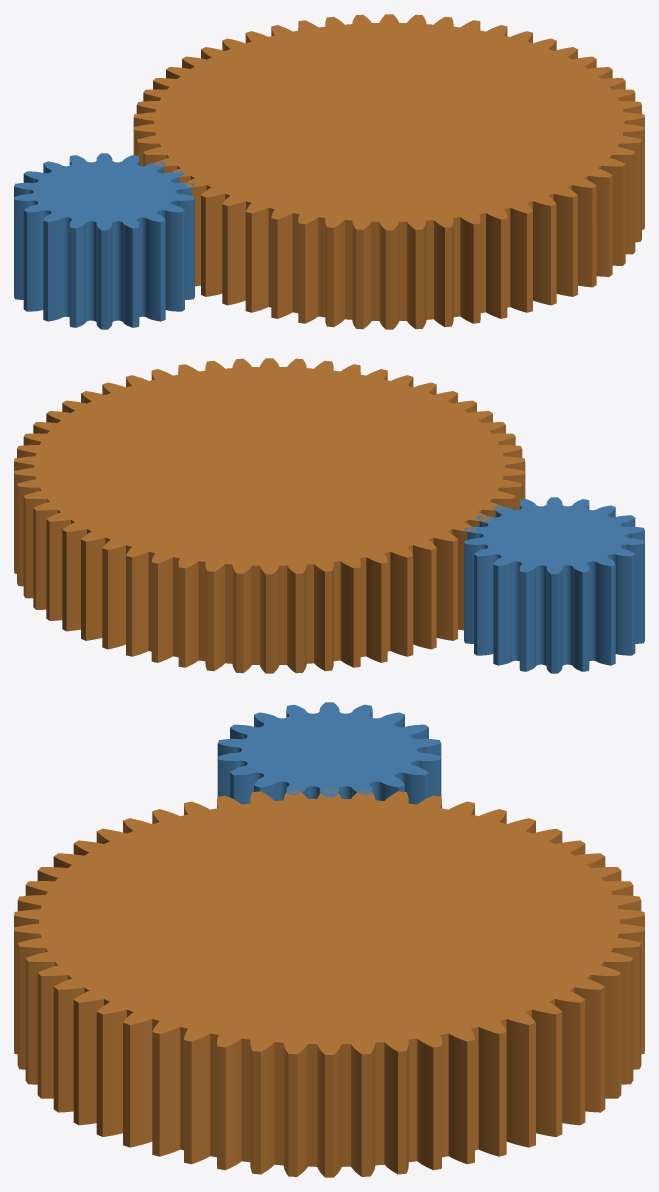
Rendered from spur_gear_pair.glb.
3 renders of one model, top to bottom at view 1: azimuth 30°, elevation 25°; view 2: azimuth 150°, elevation 25°; view 3: azimuth 270°, elevation 25°, orthographic. The views are drawn at different scales.
Parts seen in each view (by area): view 1: Gear, Pinion; view 2: Gear, Pinion; view 3: Gear, Pinion.
Boxes of the visible parts, <box> form: Gear: <box>133,14,644,329</box>; Pinion: <box>14,153,194,329</box>; Gear: <box>14,358,525,673</box>; Pinion: <box>464,497,644,673</box>; Gear: <box>14,788,644,1177</box>; Pinion: <box>217,702,441,804</box>.
Bounding box in the file's own units: 444 × 72 × 336.
